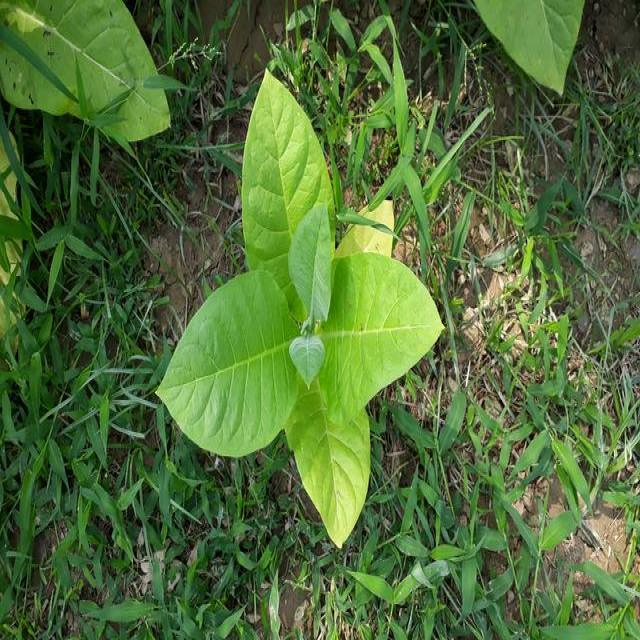crop: (158, 54, 443, 550)
